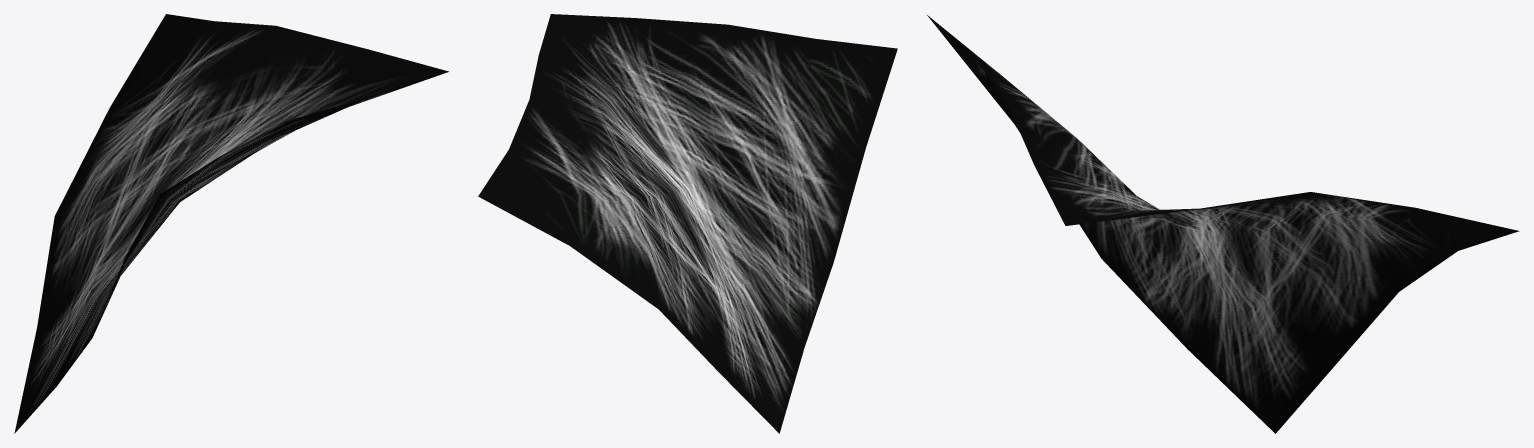
File: SWORDLIGHT20_PS-AREA01_CORNERWEB03.fbx
3 renders of one model, left to right at view 1: azimuth 30°, elevation 25°; view 2: azimuth 150°, elevation 25°; view 3: azimuth 270°, elevation 25°, orthographic. The views are drawn at different scales.
Visible parts, largest first — view 1: SWORDLIGHT20_PS-AREA01_CORNERWEB03; view 2: SWORDLIGHT20_PS-AREA01_CORNERWEB03; view 3: SWORDLIGHT20_PS-AREA01_CORNERWEB03.
Boxes of the visible parts, <box> form: SWORDLIGHT20_PS-AREA01_CORNERWEB03: <box>14,14,448,433</box>; SWORDLIGHT20_PS-AREA01_CORNERWEB03: <box>478,14,897,433</box>; SWORDLIGHT20_PS-AREA01_CORNERWEB03: <box>927,15,1519,433</box>.
Bounding box in the file's own units: 74186 × 71525 × 88198.
Materials: 1 (1 with a texture image).
